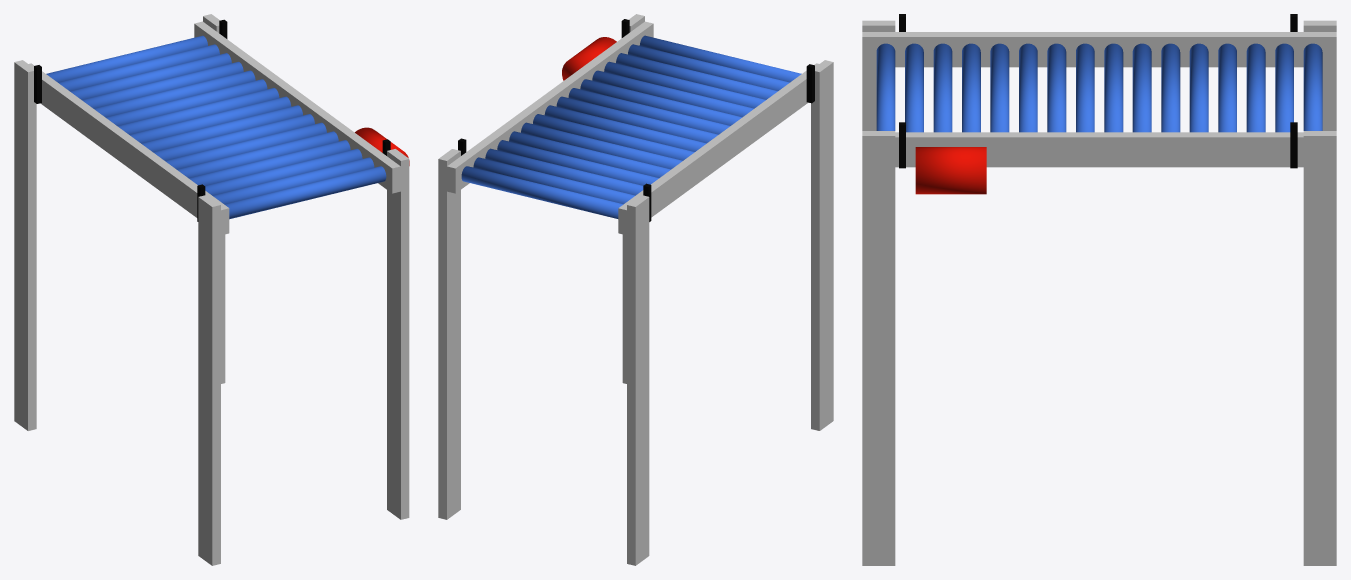
File: conveyor_model.fbx
3 views of the same model, side by side, from view 1: azimuth 30°, elevation 25°; view 2: azimuth 150°, elevation 25°; view 3: azimuth 270°, elevation 25° (orthographic). The views are drawn at different scales.
Parts seen in each view (by area): view 1: Cube, Cube.005, Cube.001, Cube.002, Cube.003, Cylinder, Cylinder.008, Cylinder.009, Cylinder.005, Cylinder.011, Cylinder.012, Cylinder.014 (+10 smaller); view 2: Cube.005, Cube, Cube.004, Cube.002, Cube.003, Cylinder.015, Cylinder, Cylinder.006, Cylinder.003, Cylinder.007, Cylinder.009, Cylinder.004 (+11 smaller); view 3: Cube.001, Cube.004, Cube.003, Cube.002, Motor, Cylinder.006, Cylinder.008, Cylinder.009, Cylinder.010, Cylinder.004, Cylinder.011, Cylinder.002 (+11 smaller).
Part boxes in pixels (<box>): Cube: <box>198,195,220,565</box>; Cube.005: <box>14,60,36,430</box>; Cube.001: <box>387,149,409,519</box>; Cube.002: <box>29,63,229,235</box>; Cube.003: <box>194,21,400,193</box>; Cylinder: <box>224,166,386,219</box>; Cylinder.008: <box>129,96,291,143</box>; Cylinder.009: <box>117,88,279,134</box>; Cylinder.005: <box>165,122,326,169</box>; Cylinder.011: <box>94,70,255,117</box>; Cylinder.012: <box>82,61,243,108</box>; Cylinder.014: <box>58,44,219,91</box>; Cube.005: <box>627,195,649,565</box>; Cube: <box>811,60,833,430</box>; Cube.004: <box>438,149,460,519</box>; Cube.002: <box>618,63,818,235</box>; Cube.003: <box>447,21,653,193</box>; Cylinder.015: <box>461,166,623,218</box>; Cylinder: <box>639,35,801,82</box>; Cylinder.006: <box>568,88,730,134</box>; Cylinder.003: <box>604,61,765,108</box>; Cylinder.007: <box>556,96,718,143</box>; Cylinder.009: <box>533,114,694,160</box>; Cylinder.004: <box>592,70,753,117</box>; Cube.001: <box>862,131,895,565</box>; Cube.004: <box>1303,131,1336,565</box>; Cube.003: <box>895,132,1303,167</box>; Cube.002: <box>862,32,1336,67</box>; Motor: <box>915,147,986,194</box>; Cylinder.006: <box>1047,43,1066,132</box>; Cylinder.008: <box>1104,43,1123,132</box>; Cylinder.009: <box>1132,43,1151,132</box>; Cylinder.010: <box>1161,43,1180,132</box>; Cylinder.004: <box>990,43,1009,132</box>; Cylinder.011: <box>1189,43,1208,132</box>; Cylinder.002: <box>933,43,952,132</box>.
Bounding box in the file's own units: 64.09 × 102 × 100.
